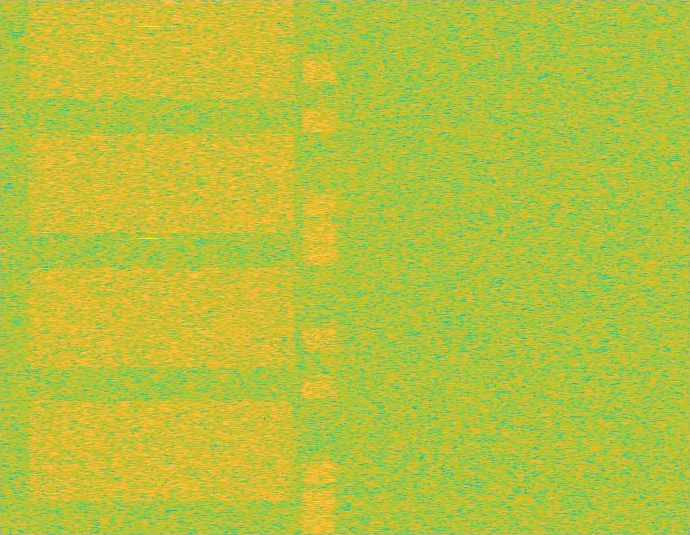5G: (24, 0, 300, 534)
LTE: (302, 0, 337, 534)
Radar: (142, 0, 156, 534)
